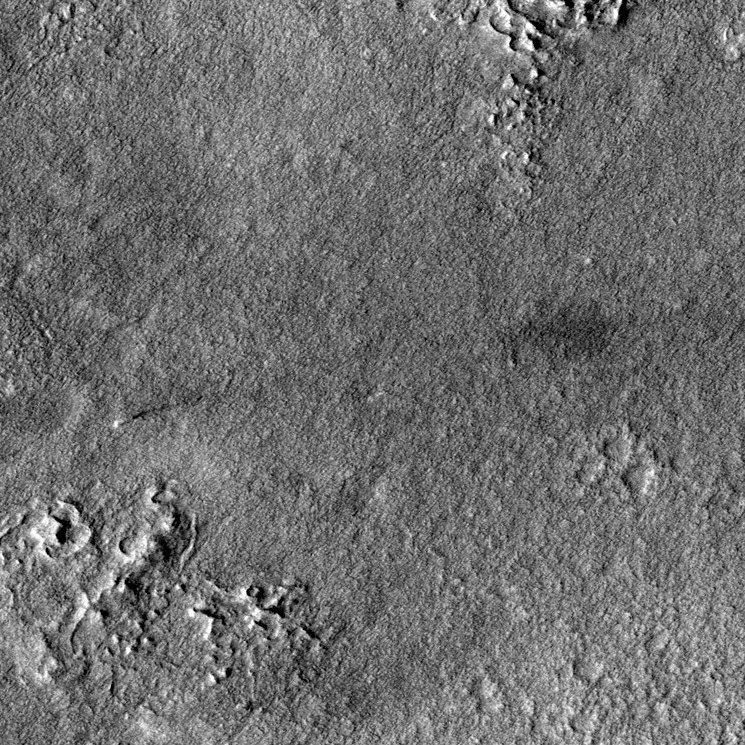dust_devil: (112, 401, 179, 429)
